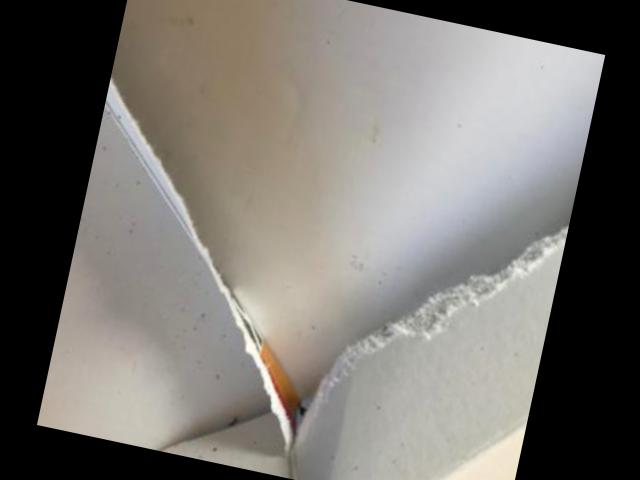cardboard paper: (110, 0, 605, 400), (292, 229, 568, 480)
